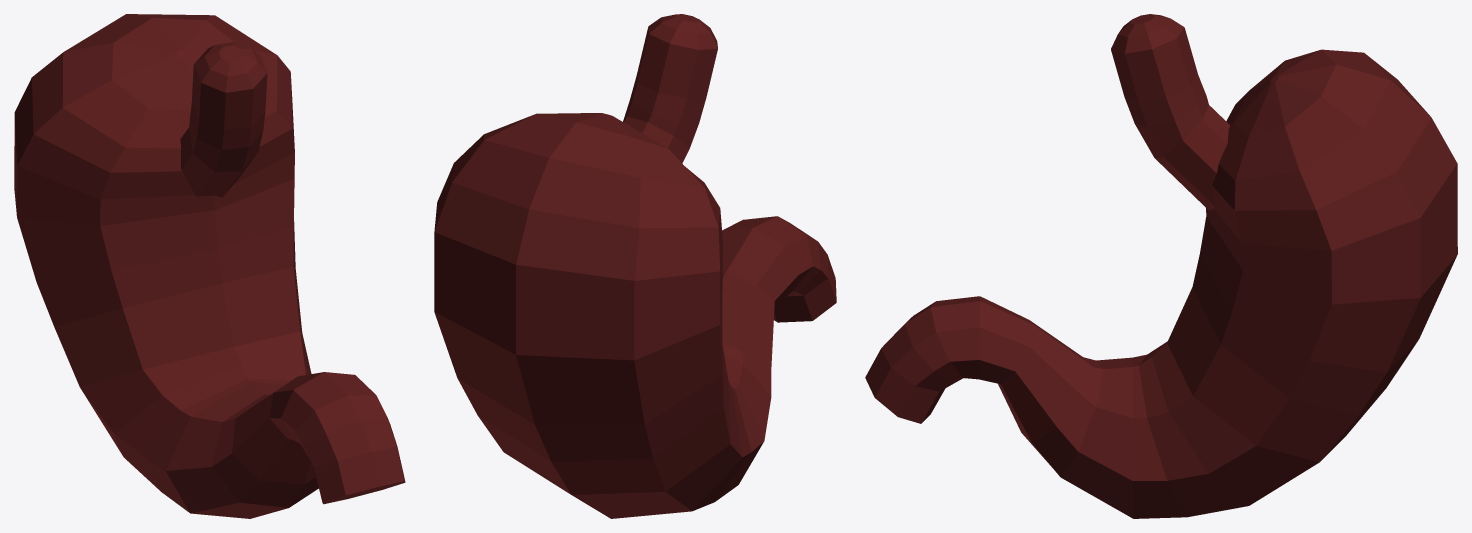
The model's file is Estomago.fbx.
The picture shows the model from 3 angles, left to right: view 1: azimuth 30°, elevation 25°; view 2: azimuth 150°, elevation 25°; view 3: azimuth 270°, elevation 25°; orthographic projection. The views are drawn at different scales.
Parts seen in each view (by area): view 1: Cylinder; view 2: Cylinder; view 3: Cylinder.
Part boxes in pixels (x1,y1,x2,y2): Cylinder: (14,14,405,518); Cylinder: (434,14,836,518); Cylinder: (865,14,1457,518).
Size of the model in its own units: 268 by 437 by 483.
